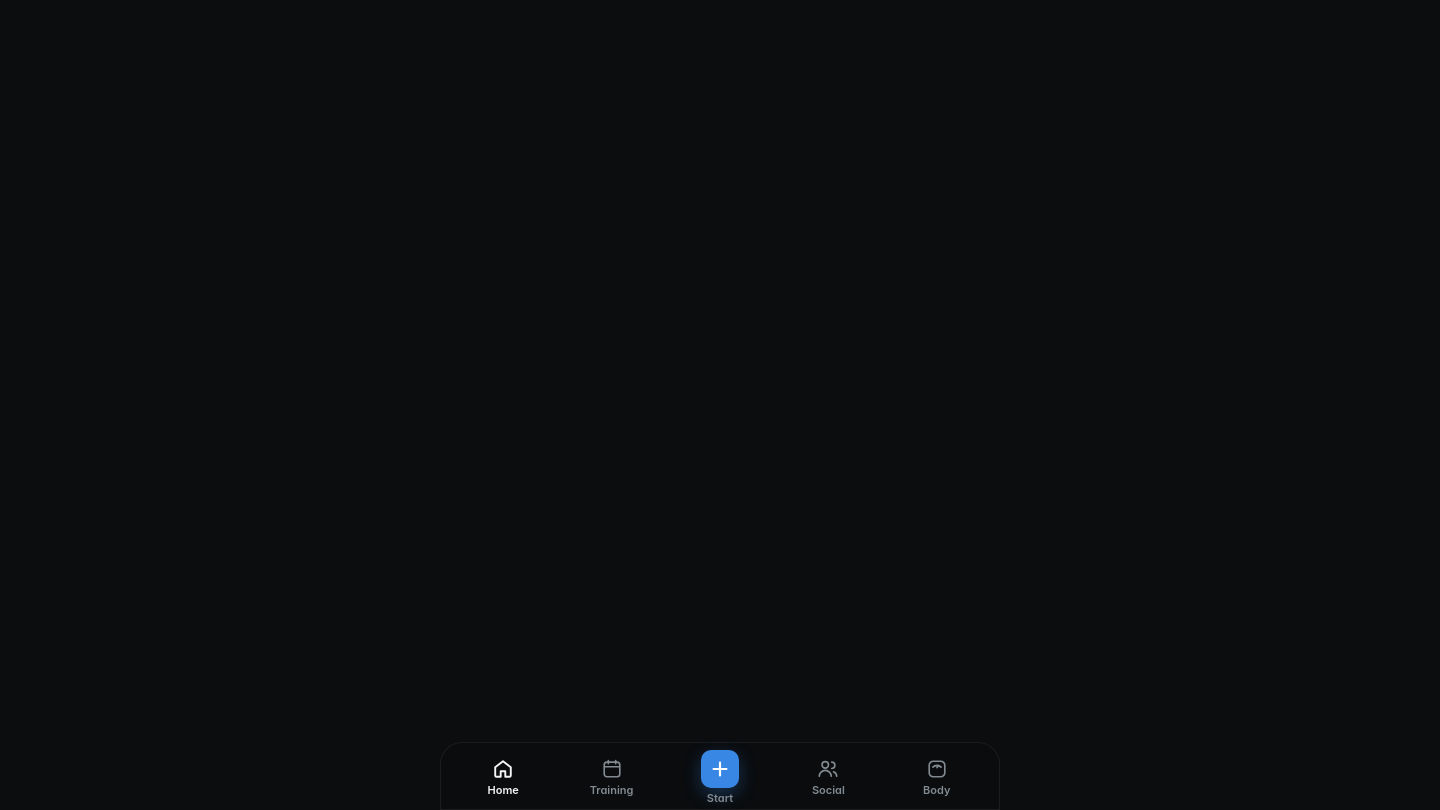
Test case: Start menu › closes on Escape and when the backdrop is tapped
Step 1. Click the button with class "app-tab-start" → {"x": 720, "y": 778}, box [666,750,774,805]
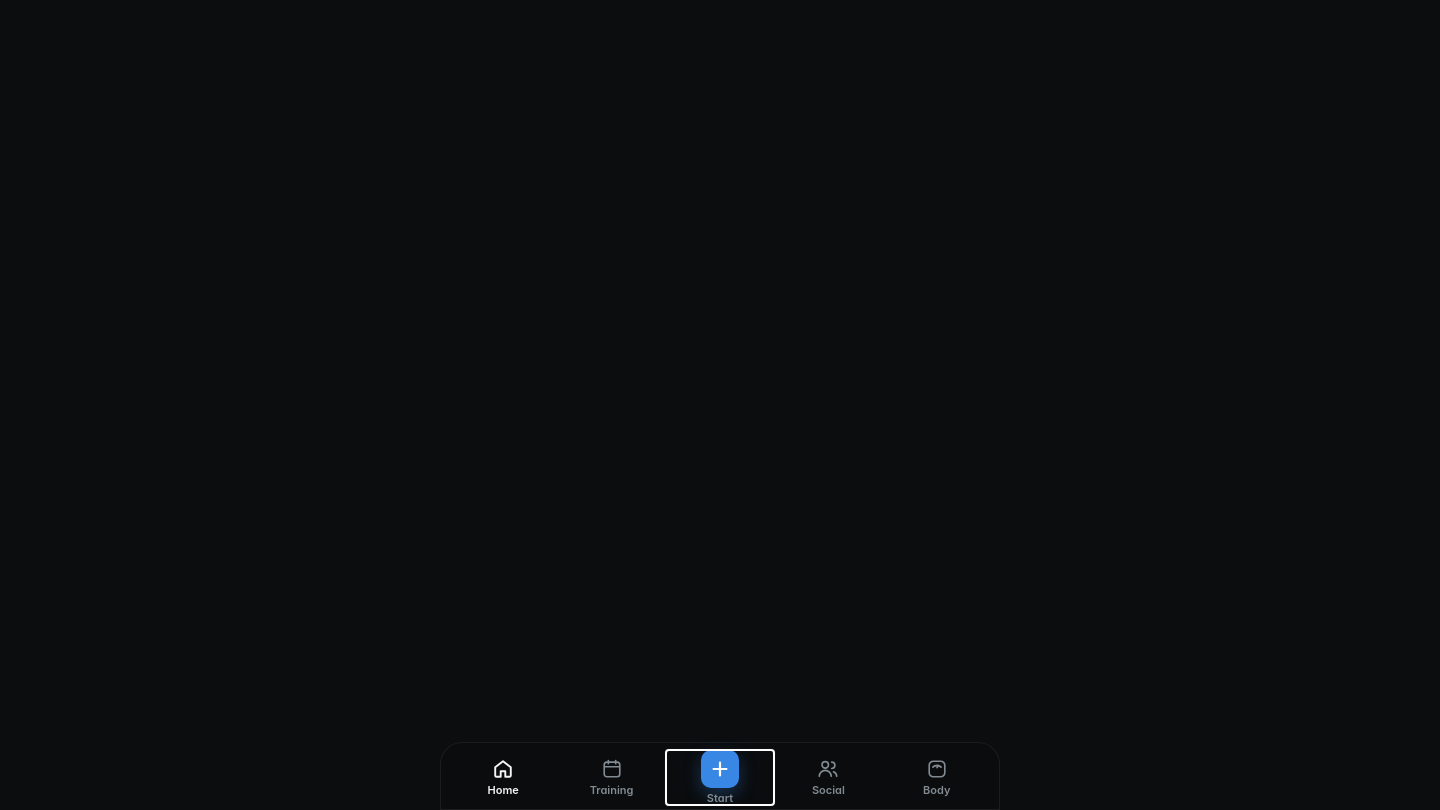
Step 2. Click the button with class "app-tab-start" → {"x": 720, "y": 778}, box [666,750,774,805]
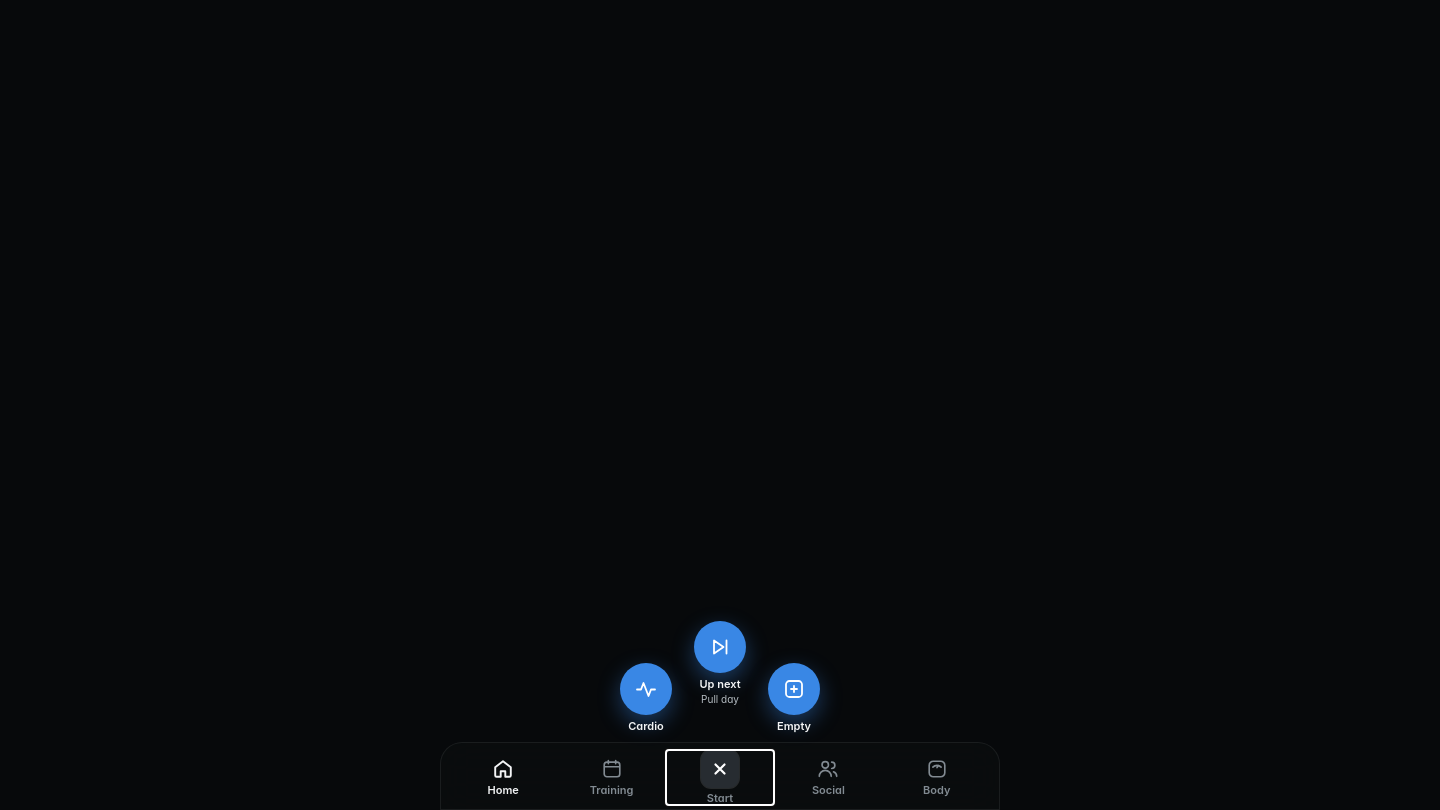
Step 3. Click the element with class "start-menu-scrim" → {"x": 720, "y": 405}, box [0,0,1439,809]
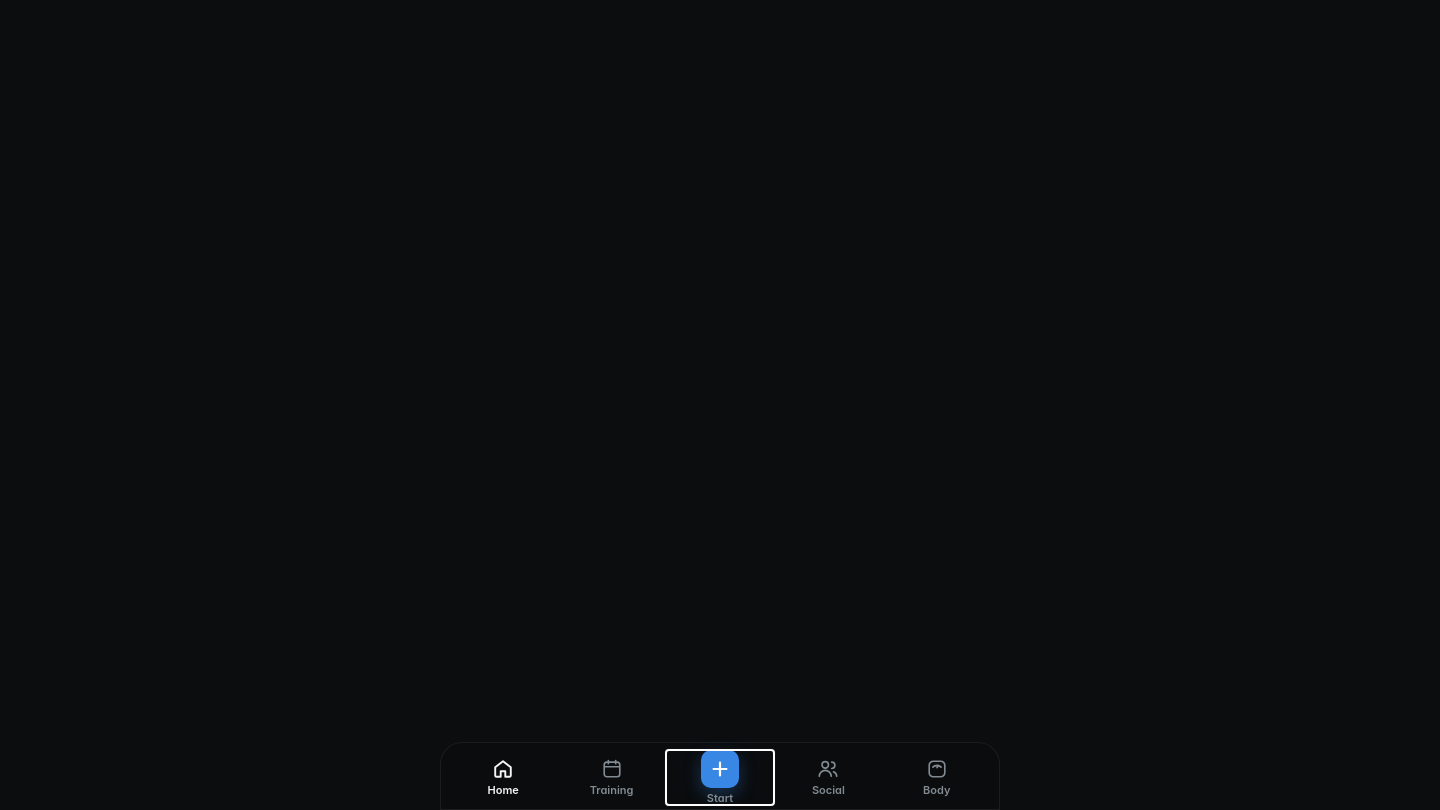
Check: the button with class "app-tab-start" is collapsed, box [666,750,774,805]
